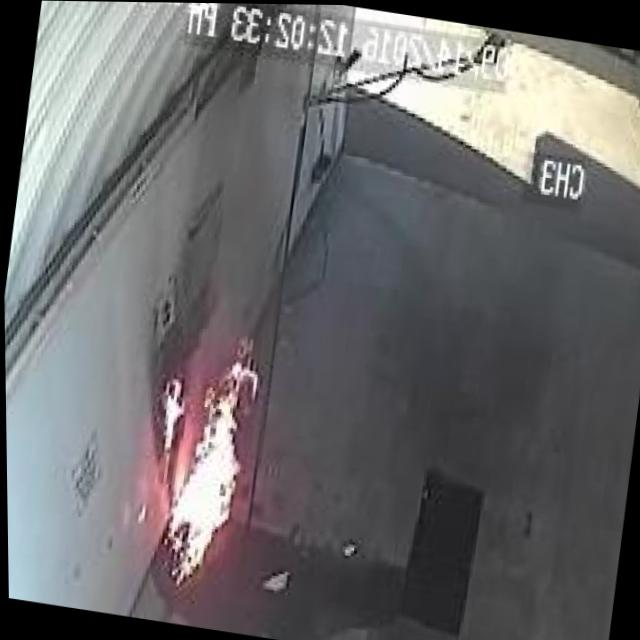fire: (122, 313, 279, 600)
